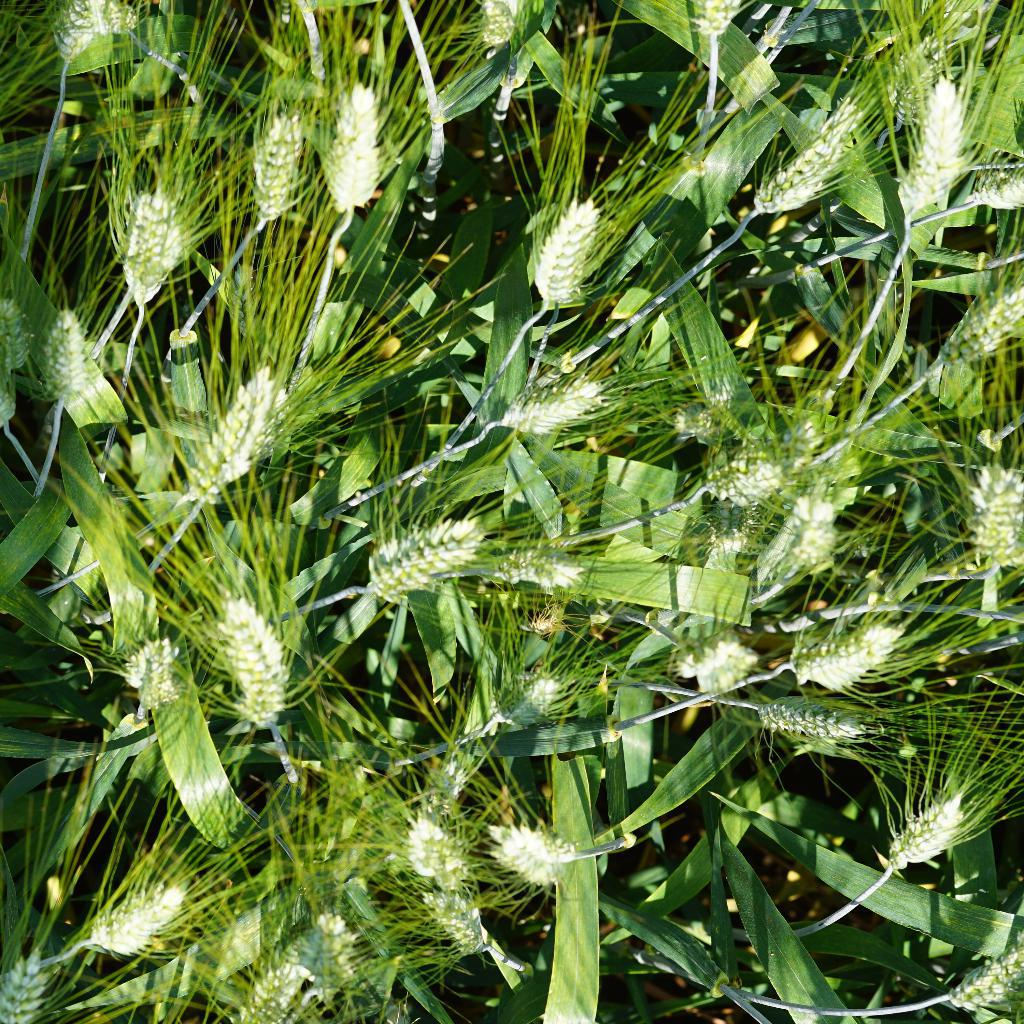0-0: (744, 97, 873, 228), (178, 358, 284, 514), (522, 183, 615, 344), (215, 601, 301, 746), (884, 63, 959, 224), (351, 523, 505, 601), (780, 615, 903, 702), (735, 497, 854, 586), (235, 96, 310, 234), (747, 684, 878, 762), (109, 178, 187, 305), (325, 86, 391, 236), (497, 363, 612, 447), (878, 22, 958, 138), (688, 433, 819, 501), (657, 620, 772, 697), (419, 884, 514, 974), (940, 280, 1024, 380), (881, 785, 974, 875), (81, 886, 191, 957), (964, 449, 1024, 578), (393, 787, 474, 882), (301, 897, 376, 994), (482, 823, 591, 889), (477, 527, 589, 590), (34, 299, 104, 397), (481, 663, 577, 731), (122, 631, 195, 716), (282, 853, 354, 928), (948, 949, 1024, 1018), (33, 0, 112, 66), (418, 745, 483, 823), (693, 491, 764, 561), (0, 940, 58, 1024), (959, 153, 1024, 226), (238, 959, 310, 1024), (662, 392, 735, 449), (104, 0, 171, 60), (831, 513, 918, 559), (470, 0, 537, 55), (676, 0, 754, 45), (3, 287, 37, 370), (519, 612, 564, 637)
